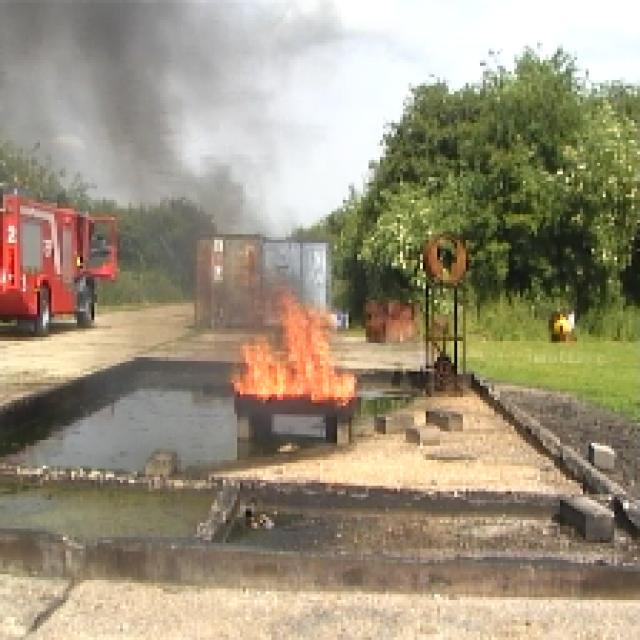fire: (229, 302, 355, 409)
smoke: (2, 0, 302, 288)
